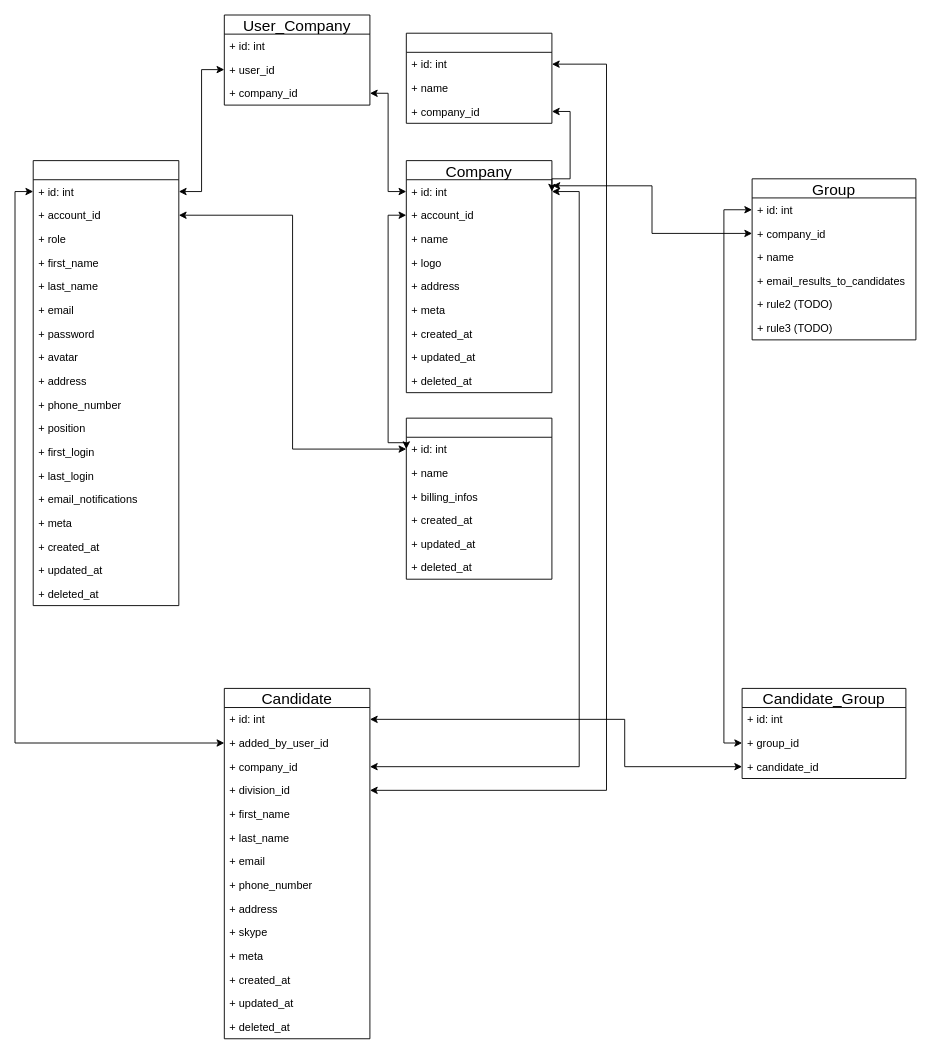
Some shapes in this 931 by 1054 pixel diagram are drawn without their labels. Here are the shapes that lost their labels. From the top down, the box of each, then its label:
(405, 32, 552, 123): Division
(32, 160, 179, 606): User
(405, 417, 552, 579): Account
